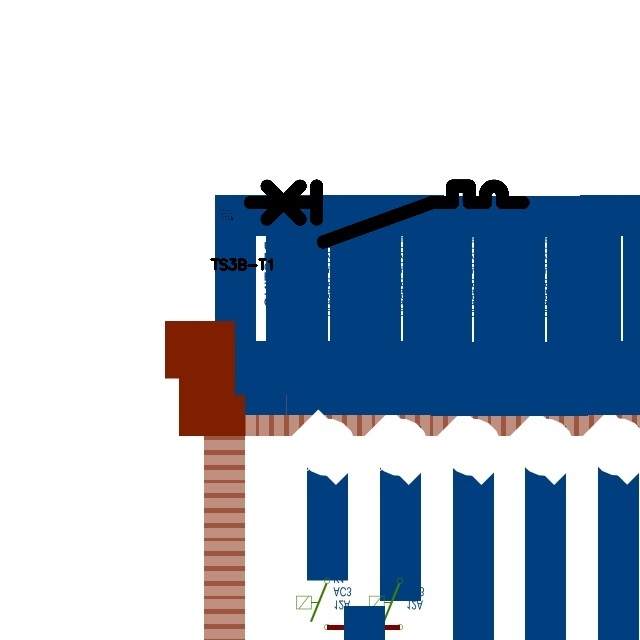interruptor_termomagnetico: (243, 179, 530, 249)
